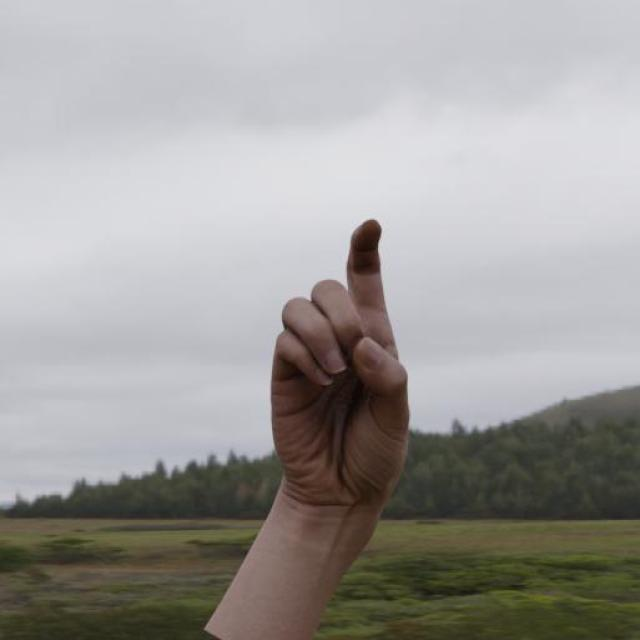X: (218, 204, 471, 598)
